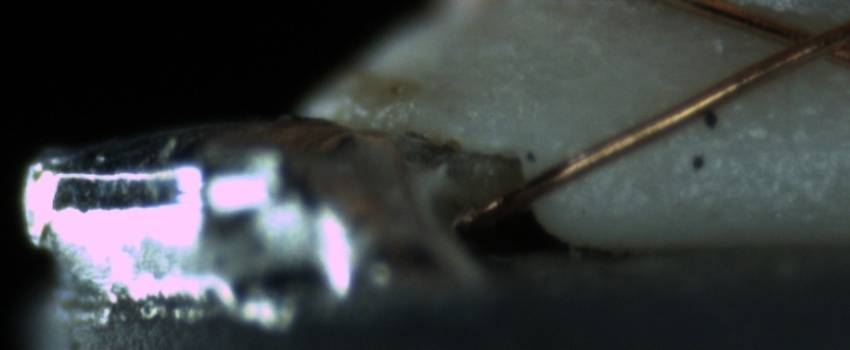CL: (759, 11, 849, 73)
DL: (687, 112, 850, 173)
